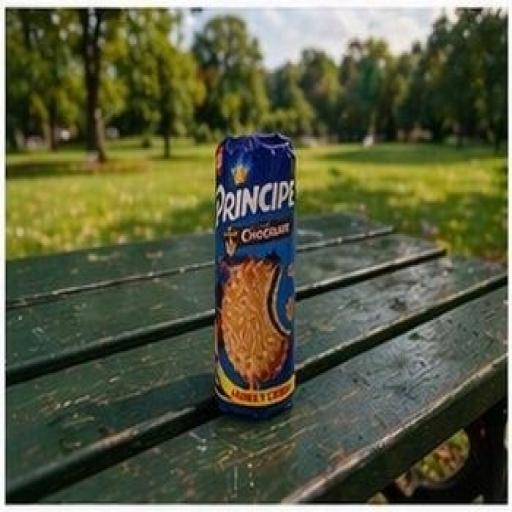prince: (179, 74, 403, 492)
